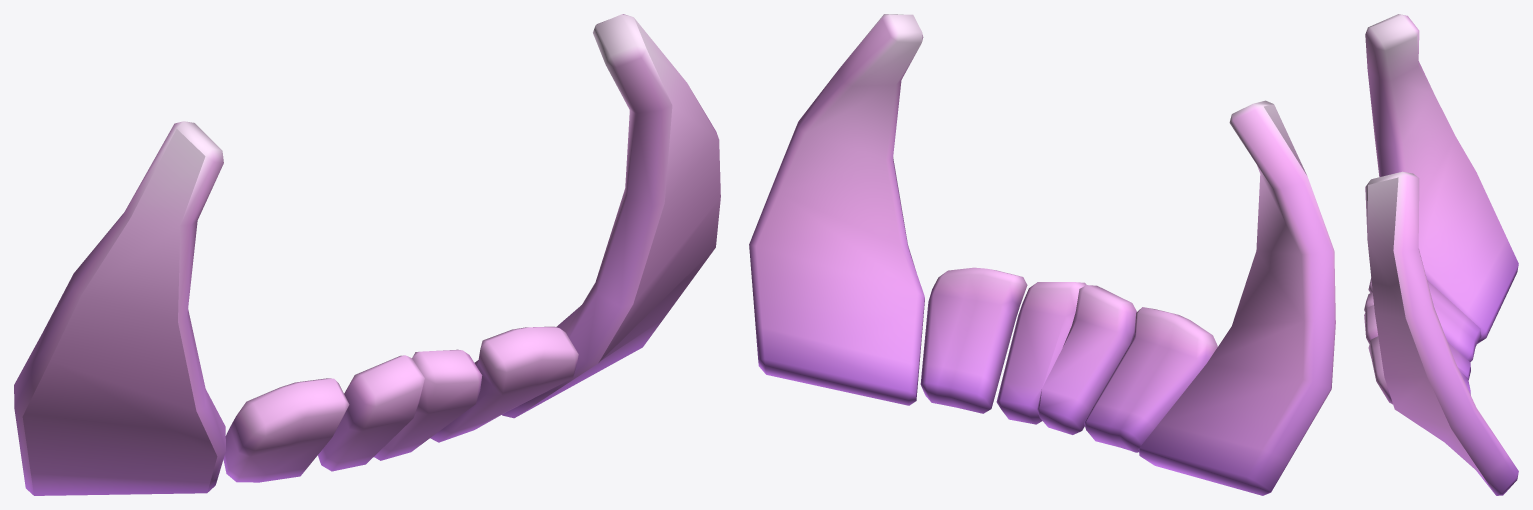
File: M_EnemyGhost_01_Teeth.fbx
3 views of the same model, side by side, from view 1: azimuth 30°, elevation 25°; view 2: azimuth 150°, elevation 25°; view 3: azimuth 270°, elevation 25° (orthographic). The views are drawn at different scales.
Parts seen in each view (by area): view 1: M_EnemyGhost_01_Teeth; view 2: M_EnemyGhost_01_Teeth; view 3: M_EnemyGhost_01_Teeth.
Part boxes in pixels (x1,y1,x2,y2): M_EnemyGhost_01_Teeth: [14, 14, 720, 495]; M_EnemyGhost_01_Teeth: [749, 14, 1335, 495]; M_EnemyGhost_01_Teeth: [1364, 14, 1518, 495].
Bounding box in the file's own units: 176 × 101 × 46.11.
